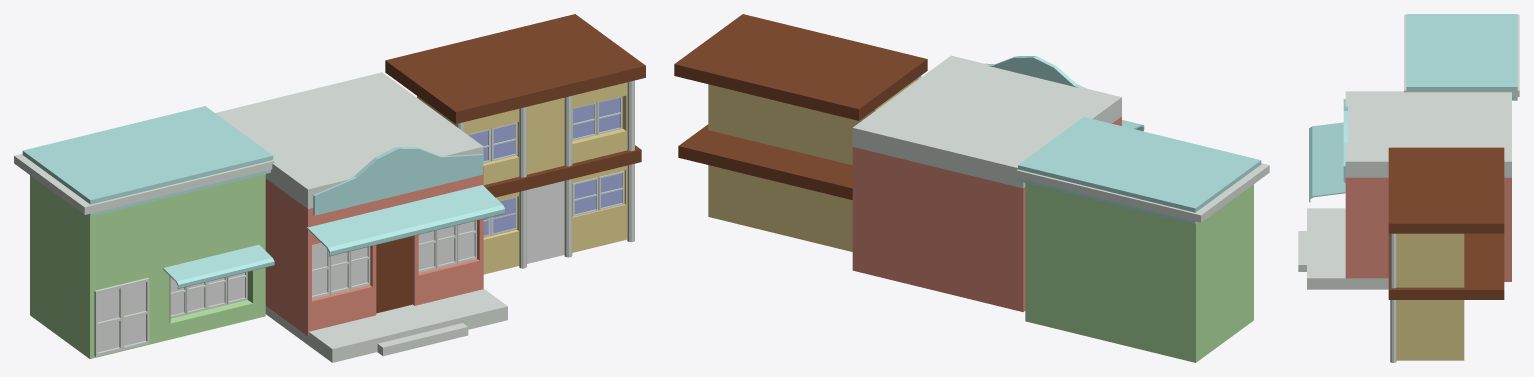
File: buildings.fbx
The picture shows the model from 3 angles, left to right: view 1: azimuth 30°, elevation 25°; view 2: azimuth 150°, elevation 25°; view 3: azimuth 270°, elevation 25°; orthographic projection. The views are drawn at different scales.
Parts seen in each view (by area): view 1: LeftBuilding, Cube.004, trim.002, roof, MiddleBuilding, RightBuilding, Cube.003, Plane.001, Cube.006, trim, Cube.001, Cube.005 (+23 smaller); view 2: LeftBuilding, MiddleBuilding, Cube.004, trim.002, RightBuilding, roof, trim.001, trim, Cube.006; view 3: Cube.004, trim.002, roof, RightBuilding, MiddleBuilding, trim.001, Cube.003, Plane.001, trim, Cylinder.001, Cube.007, Cube.006.
Part boxes in pixels (left/top/right/bottom): LeftBuilding: left=30, top=174, right=265, bottom=358; Cube.004: left=215, top=72, right=483, bottom=208; trim.002: left=385, top=14, right=645, bottom=123; roof: left=22, top=106, right=273, bottom=216; MiddleBuilding: left=265, top=166, right=483, bottom=336; RightBuilding: left=417, top=82, right=627, bottom=274; Cube.003: left=265, top=289, right=507, bottom=362; Plane.001: left=306, top=185, right=504, bottom=256; Cube.006: left=313, top=147, right=482, bottom=215; trim: left=14, top=153, right=274, bottom=214; Cube.001: left=527, top=181, right=564, bottom=263; Cube.005: left=376, top=236, right=412, bottom=313; LeftBuilding: left=1025, top=183, right=1253, bottom=362; MiddleBuilding: left=852, top=116, right=1121, bottom=311; Cube.004: left=852, top=55, right=1121, bottom=188; trim.002: left=674, top=14, right=927, bottom=120; RightBuilding: left=708, top=80, right=915, bottom=251; roof: left=1018, top=117, right=1261, bottom=224; trim.001: left=678, top=124, right=852, bottom=199; trim: left=1016, top=163, right=1269, bottom=222; Cube.006: left=985, top=56, right=1086, bottom=88; Cube.004: left=1345, top=91, right=1511, bottom=177; trim.002: left=1388, top=147, right=1504, bottom=233; roof: left=1406, top=14, right=1517, bottom=100; RightBuilding: left=1396, top=233, right=1464, bottom=360; MiddleBuilding: left=1345, top=177, right=1511, bottom=281; trim.001: left=1388, top=233, right=1504, bottom=299; Cube.003: left=1307, top=208, right=1388, bottom=289; Plane.001: left=1309, top=122, right=1345, bottom=202; trim: left=1404, top=14, right=1519, bottom=96; Cylinder.001: left=1390, top=233, right=1396, bottom=362; Cube.007: left=1298, top=231, right=1306, bottom=271; Cube.006: left=1343, top=99, right=1347, bottom=182.
Bounding box in the file's own units: 5835 × 1799 × 2477.
